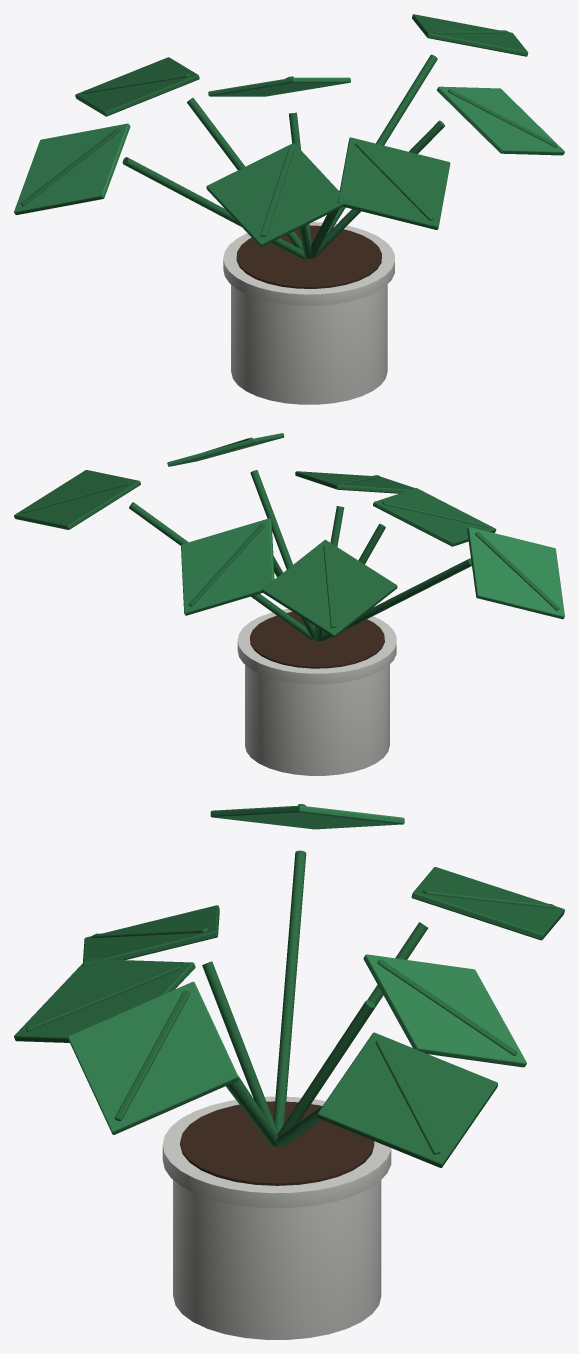
File: plant-monstera.glb
3 renders of one model, top to bottom at view 1: azimuth 30°, elevation 25°; view 2: azimuth 150°, elevation 25°; view 3: azimuth 270°, elevation 25°, orthographic. The views are drawn at different scales.
Parts seen in each view (by area): view 1: plant-monstera-solid; view 2: plant-monstera-solid; view 3: plant-monstera-solid.
Part boxes in pixels (x1,y1,x2,y2): plant-monstera-solid: (14, 14, 564, 404); plant-monstera-solid: (14, 433, 564, 775); plant-monstera-solid: (14, 804, 564, 1339).
Size of the model in its own units: 0.9663 by 0.4801 by 0.6336.
